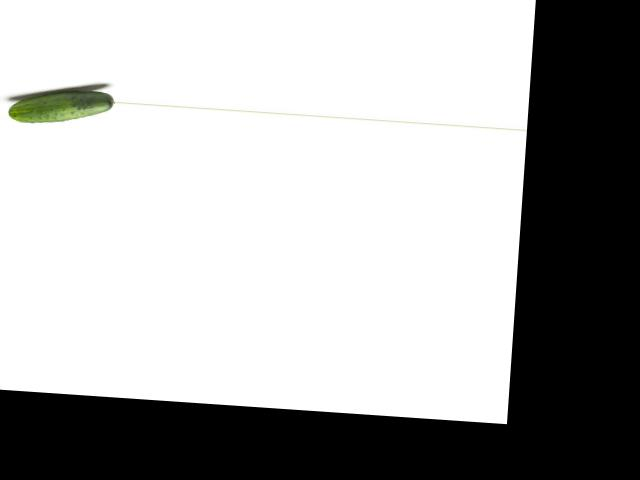cucumber: (8, 84, 116, 128)
